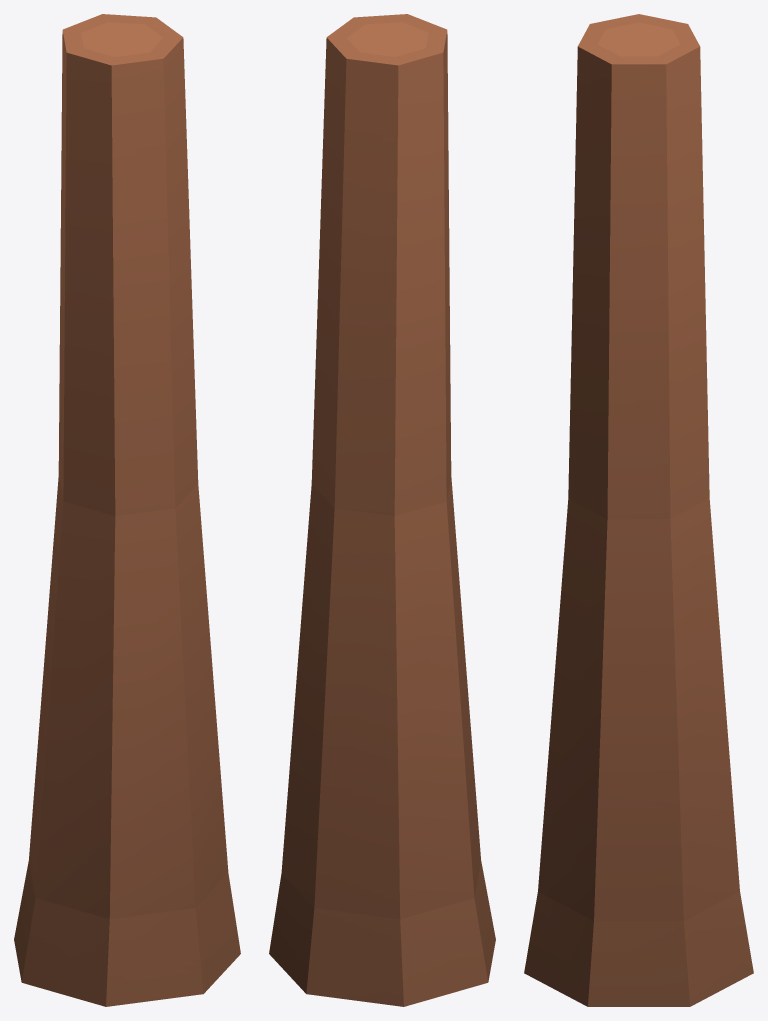
File: tree trunk 6.fbx
The picture shows the model from 3 angles, left to right: view 1: azimuth 30°, elevation 25°; view 2: azimuth 150°, elevation 25°; view 3: azimuth 270°, elevation 25°; orthographic projection.
Visible parts, largest first — view 1: tree trunk 6; view 2: tree trunk 6; view 3: tree trunk 6.
Part boxes in pixels (box(x1,y1,x2,y2)): tree trunk 6: box(14, 14, 240, 1006); tree trunk 6: box(269, 14, 495, 1006); tree trunk 6: box(524, 14, 753, 1006).
Bounding box in the file's own units: 73.79 × 334 × 75.69.
